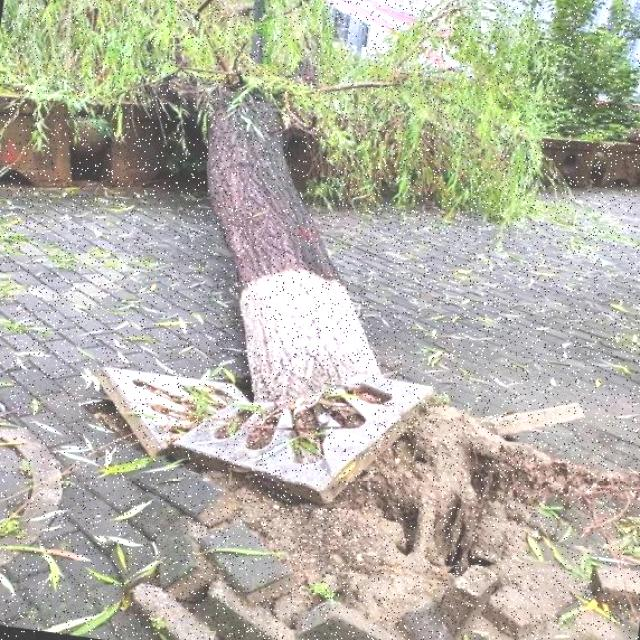fallen_object: (0, 0, 609, 561)
